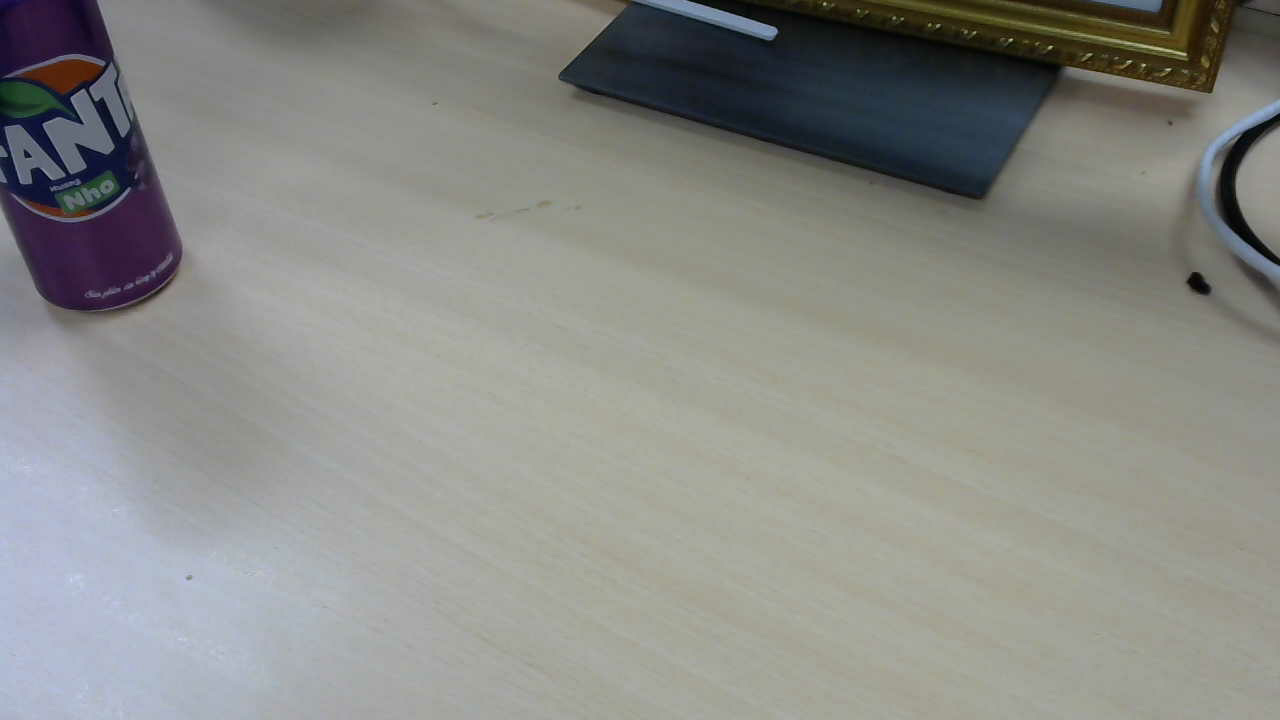Fanta: (3, 5, 190, 320)
